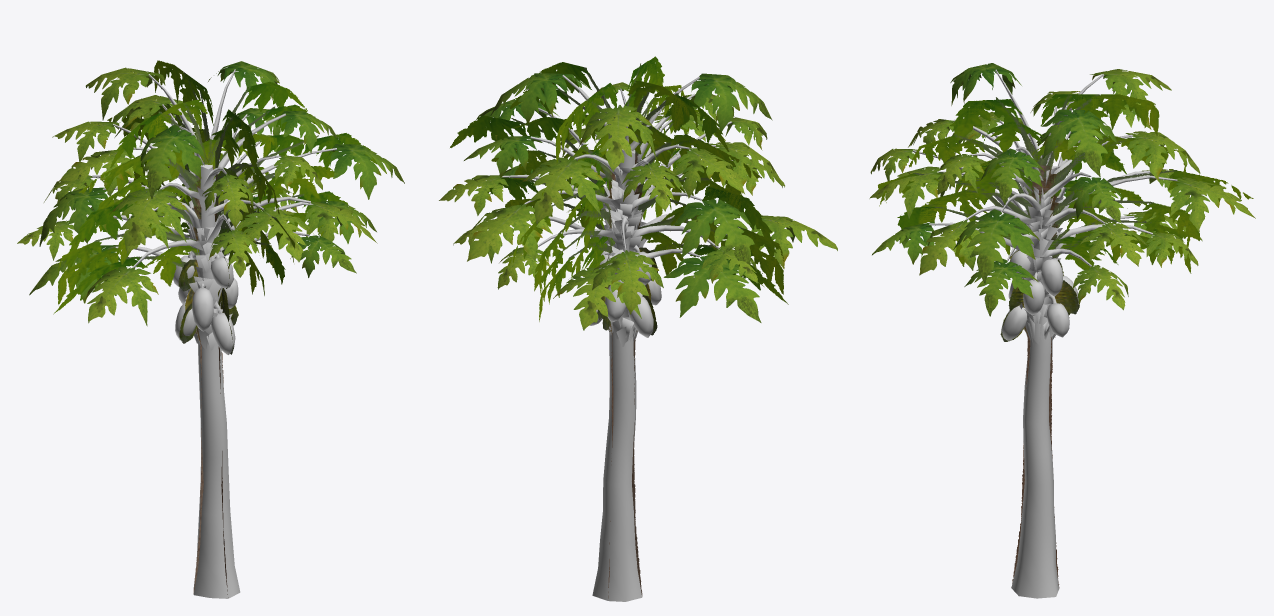
File: Papaya1.fbx
The picture shows the model from 3 angles, left to right: view 1: azimuth 30°, elevation 25°; view 2: azimuth 150°, elevation 25°; view 3: azimuth 270°, elevation 25°; orthographic projection. The views are drawn at different scales.
Visible parts, largest first — view 1: LOD0, Billboard; view 2: LOD0, Billboard; view 3: LOD0, Billboard.
Boxes of the visible parts, x1=… form: LOD0: x1=17, y1=61, x2=404, y2=598; Billboard: x1=53, y1=60, x2=377, y2=597; LOD0: x1=439, y1=73, x2=837, y2=601; Billboard: x1=450, y1=56, x2=788, y2=598; LOD0: x1=869, y1=63, x2=1255, y2=598; Billboard: x1=878, y1=94, x2=1253, y2=587.
Size of what is drawn, in the model's own units: 379 by 533 by 378.
